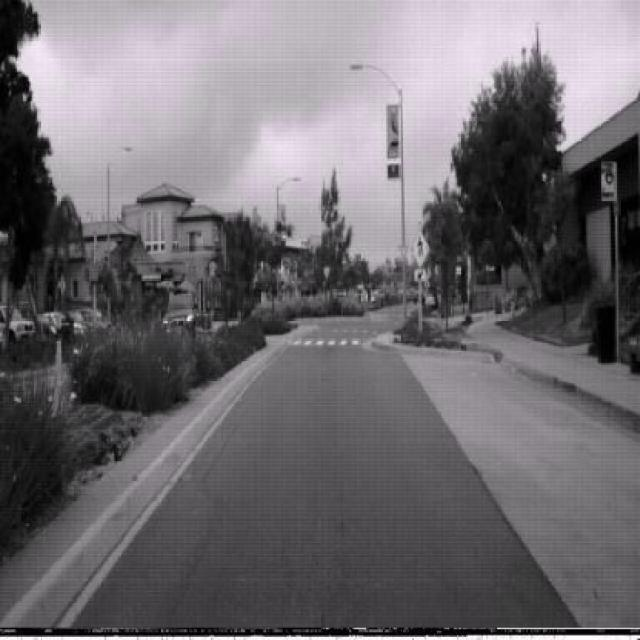pedestrianCrossing: (409, 228, 431, 268)
